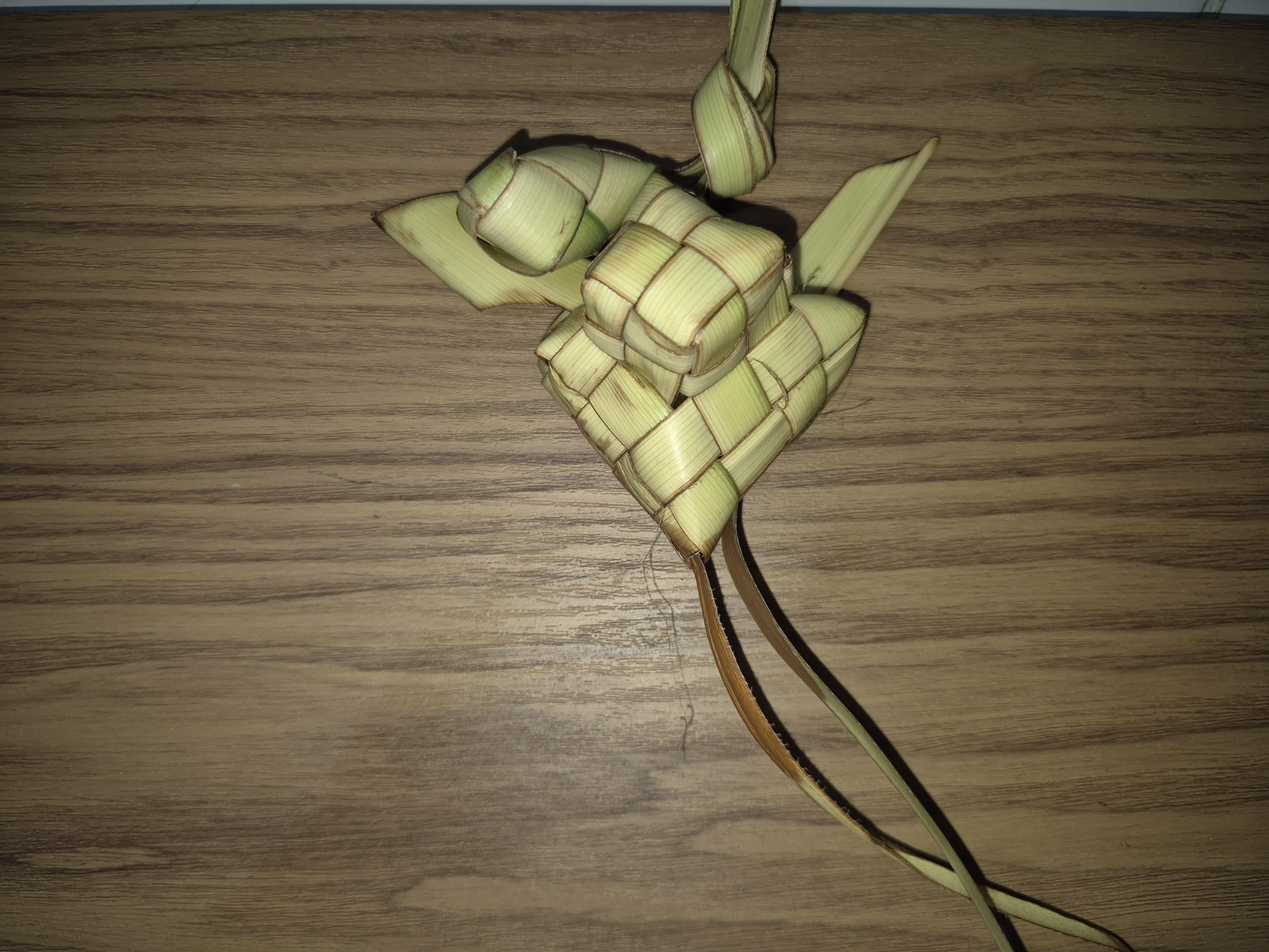Tipat Gong: (527, 402, 1017, 649)
